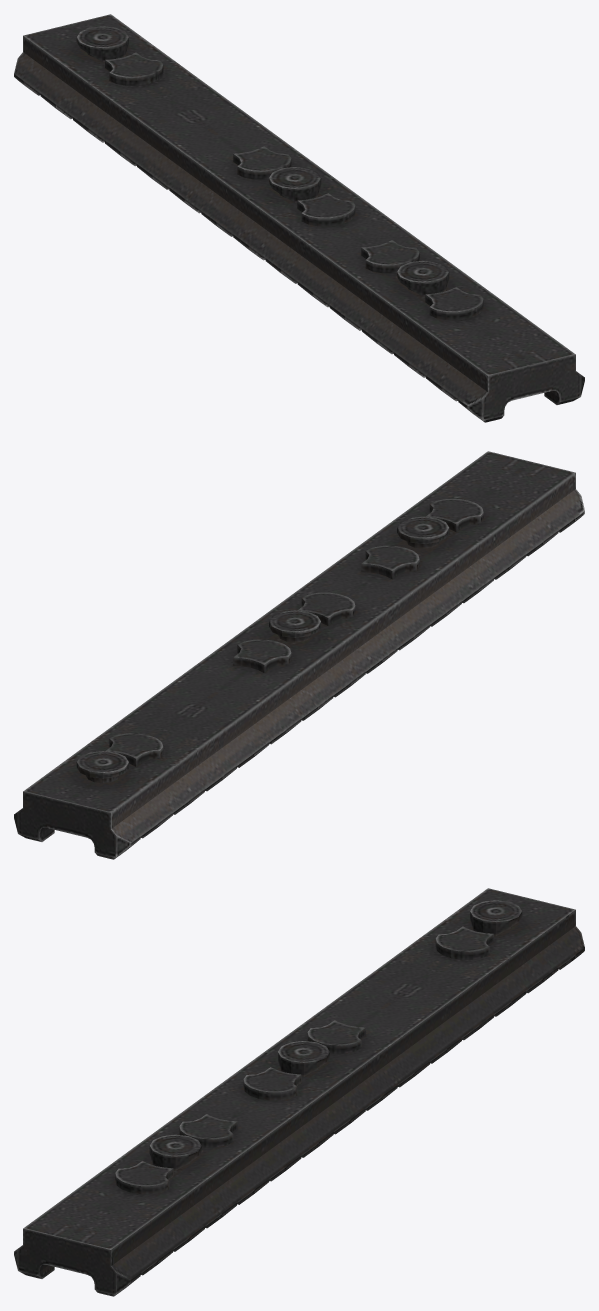
3 renders of one model, top to bottom at view 1: azimuth 30°, elevation 25°; view 2: azimuth 150°, elevation 25°; view 3: azimuth 330°, elevation 25°, orthographic.
Visible parts, largest first — view 1: TW_5a9d6d13a2750c00164f6b03_PZ_Import; view 2: TW_5a9d6d13a2750c00164f6b03_PZ_Import; view 3: TW_5a9d6d13a2750c00164f6b03_PZ_Import.
Part boxes in pixels (<box>): TW_5a9d6d13a2750c00164f6b03_PZ_Import: <box>14,14,584,422</box>; TW_5a9d6d13a2750c00164f6b03_PZ_Import: <box>14,451,584,859</box>; TW_5a9d6d13a2750c00164f6b03_PZ_Import: <box>14,888,584,1296</box>.
Size of the model in its own units: 0.0121 by 0.0837 by 0.00625.
Materials: 1 (1 with a texture image).
